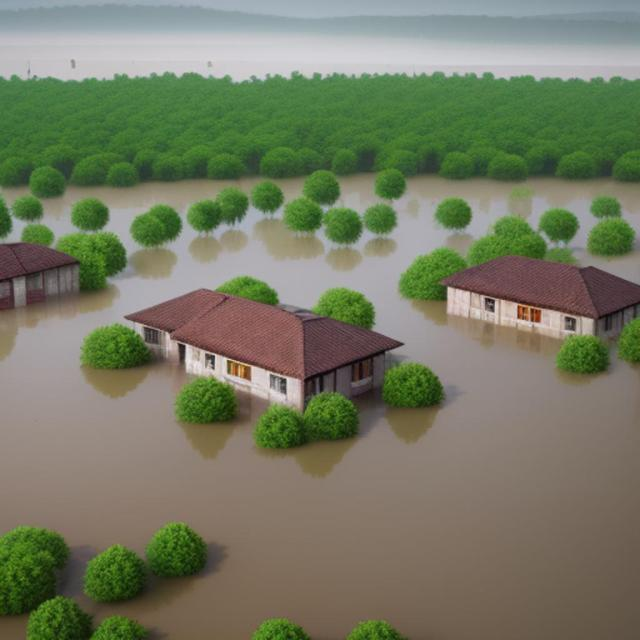flood: (0, 175, 640, 640), (336, 173, 380, 213), (274, 177, 305, 202), (0, 217, 20, 242), (1, 187, 28, 205)
house: (123, 284, 383, 422), (437, 244, 640, 353), (5, 238, 80, 318)
